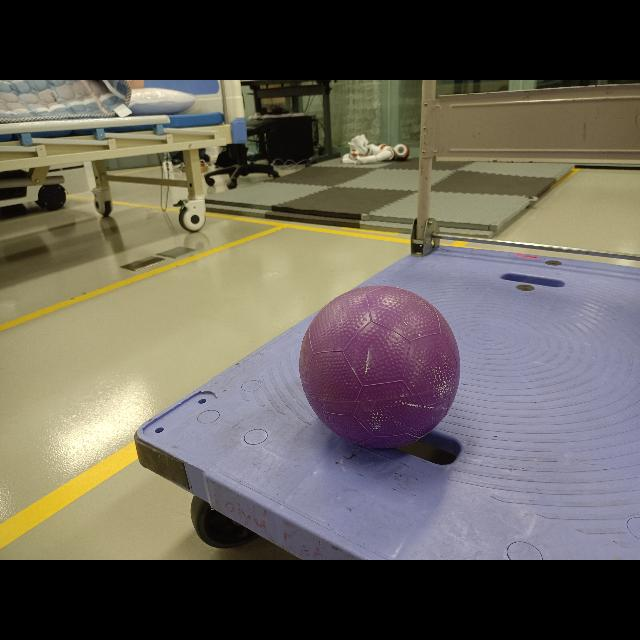P: (300, 286, 460, 450)
